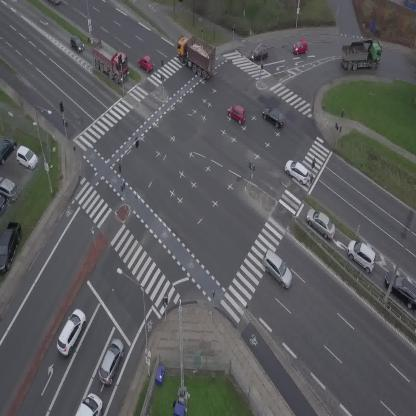car: (51, 306, 90, 357), (256, 248, 299, 290), (94, 336, 128, 387), (342, 236, 383, 275), (301, 205, 341, 242), (281, 156, 313, 187), (260, 104, 288, 130), (224, 101, 250, 125), (65, 33, 86, 55), (135, 52, 156, 73), (249, 45, 269, 60), (293, 40, 308, 54)
lorry: (167, 30, 223, 81), (83, 35, 137, 86), (341, 38, 383, 71), (75, 393, 102, 416)
